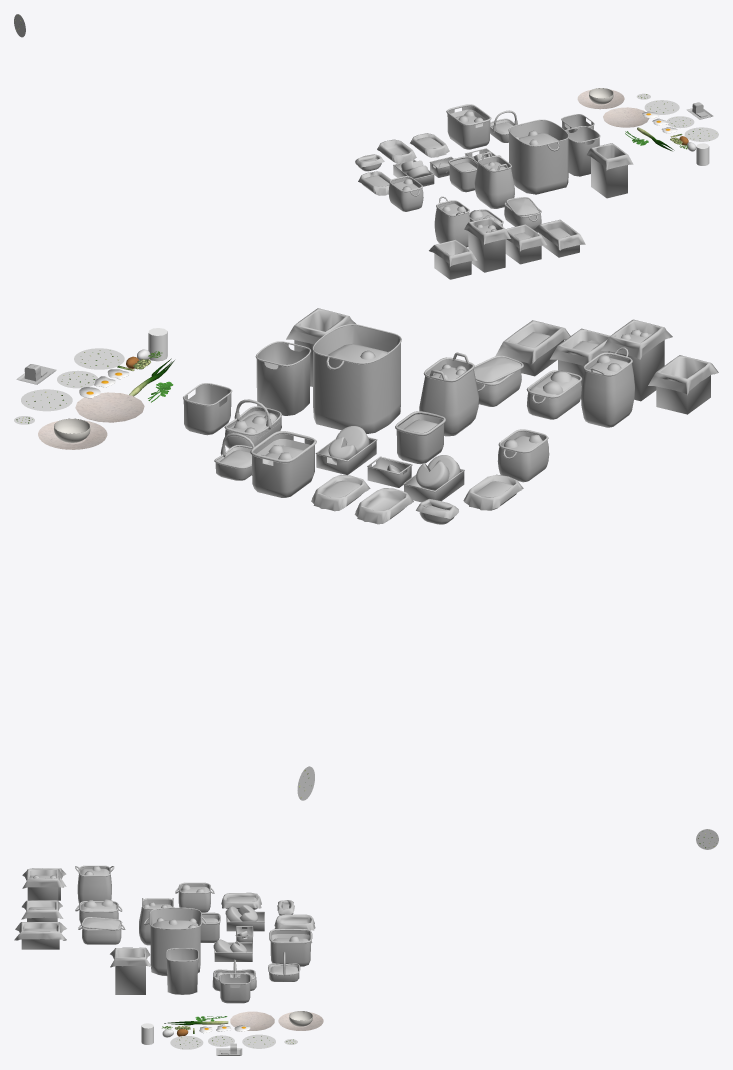
The model's file is Prefabs.fbx.
3 views of the same model, one above another, from view 1: azimuth 30°, elevation 25°; view 2: azimuth 150°, elevation 25°; view 3: azimuth 270°, elevation 25° (orthographic). The views are drawn at different scales.
Parts seen in each view (by area): view 1: Canasta_18, Canasta_20, Canasta_15, Canasta_9, Canasta_4, Canasta_12, Canasta_24, Canasta_7, Canasta_14, Canasta_13, Canasta_11, Canasta_8 (+9 smaller); view 2: Canasta_18, Canasta_7, Canasta_4, Canasta_9, Canasta_12, Canasta_15, Canasta_24, Canasta_13, Canasta_11, Canasta_8, Canasta_10, Canasta_6 (+17 smaller); view 3: Canasta_18, Canasta_20, Canasta_4, Canasta_7, Canasta_13, Canasta_12, Canasta_15, Canasta_11, Canasta_6, Canasta_17, Canasta_16, Canasta_14 (+14 smaller).
Boxes of the visible parts, box(x1,y1,x2,y2) form: Canasta_18: box(508, 119, 568, 194); Canasta_20: box(587, 143, 633, 198); Canasta_15: box(464, 217, 510, 272); Canasta_9: box(474, 152, 514, 208); Canasta_4: box(446, 104, 491, 149); Canasta_12: box(434, 196, 470, 247); Canasta_24: box(429, 239, 477, 279); Canasta_7: box(565, 126, 600, 176); Canasta_14: box(505, 224, 546, 264); Canasta_13: box(534, 219, 585, 257); Canasta_11: box(388, 176, 423, 211); Canasta_8: box(448, 156, 477, 192); Canasta_18: box(312, 324, 401, 433); Canasta_7: box(255, 341, 311, 415); Canasta_4: box(250, 431, 316, 497); Canasta_9: box(419, 352, 479, 436); Canasta_12: box(581, 347, 634, 427); Canasta_15: box(601, 319, 672, 401); Canasta_24: box(648, 355, 718, 414); Canasta_13: box(495, 320, 570, 376); Canasta_11: box(497, 429, 549, 482); Canasta_8: box(395, 411, 445, 464); Canasta_10: box(526, 370, 582, 419); Canasta_6: box(183, 383, 232, 435); Canasta_18: box(144, 907, 206, 975); Canasta_20: box(110, 947, 151, 994); Canasta_4: box(269, 929, 312, 966); Canasta_7: box(166, 948, 198, 994); Canasta_13: box(14, 922, 66, 949); Canasta_12: box(75, 865, 114, 904); Canasta_15: box(22, 869, 63, 900); Canasta_11: box(175, 882, 214, 912); Canasta_6: box(219, 973, 251, 1003); Canasta_17: box(225, 905, 264, 931); Canasta_16: box(213, 939, 252, 961); Canasta_14: box(21, 900, 63, 921).
Size of the model in its own units: 12.05 by 1.03 by 8.33.
